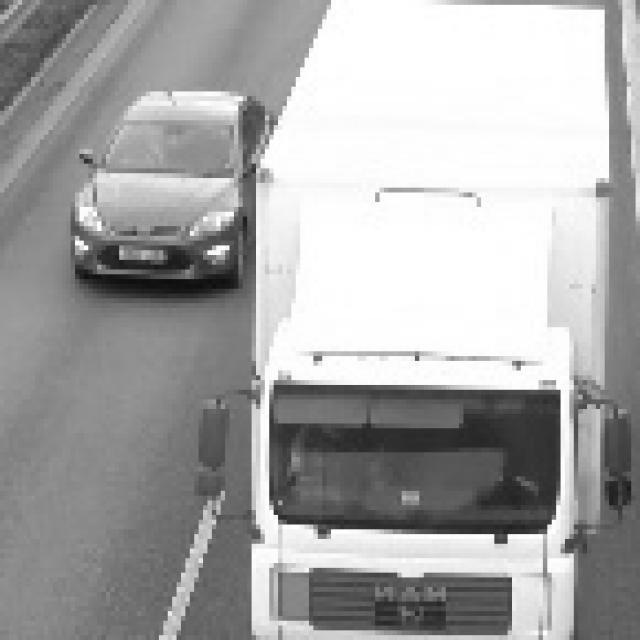truck: (192, 201, 640, 640)
